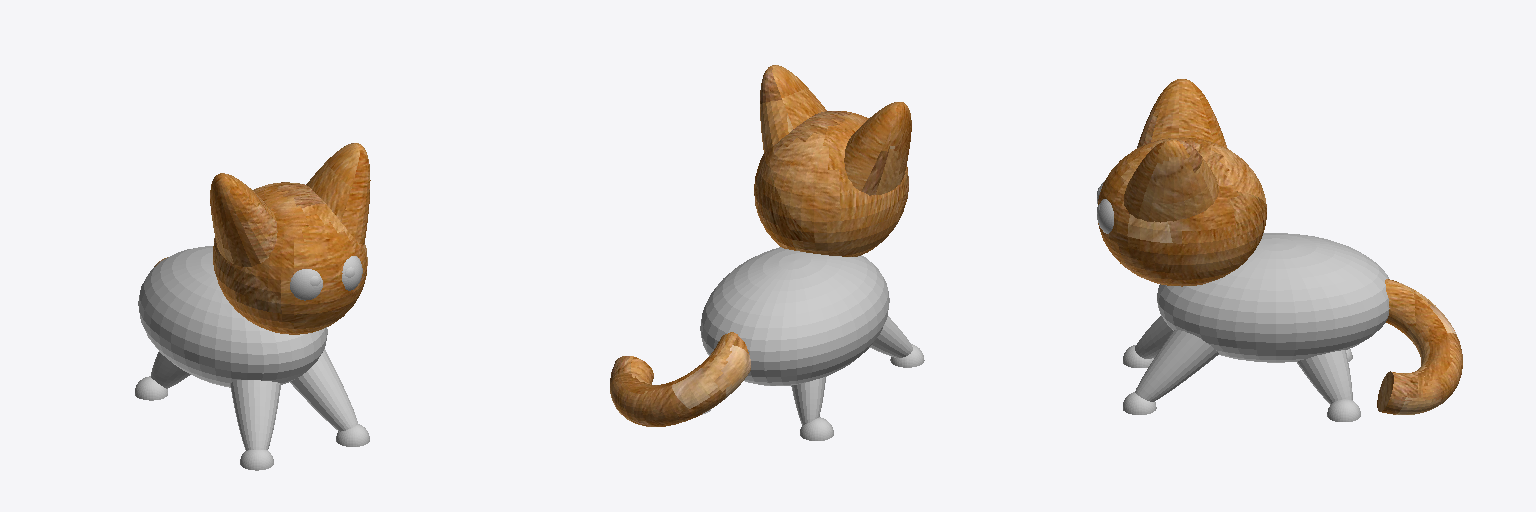
3 views of the same model, side by side, from view 1: azimuth 30°, elevation 25°; view 2: azimuth 150°, elevation 25°; view 3: azimuth 270°, elevation 25° (orthographic).
Visible parts, largest first — view 1: obj_0; view 2: obj_0; view 3: obj_0.
Part boxes in pixels (left/top/right/bottom): obj_0: left=135, top=143, right=370, bottom=470; obj_0: left=610, top=65, right=924, bottom=440; obj_0: left=1097, top=79, right=1462, bottom=421.
Size of the model in its own units: 0.5353 by 0.72 by 0.8591.
4 materials, 1 textured.